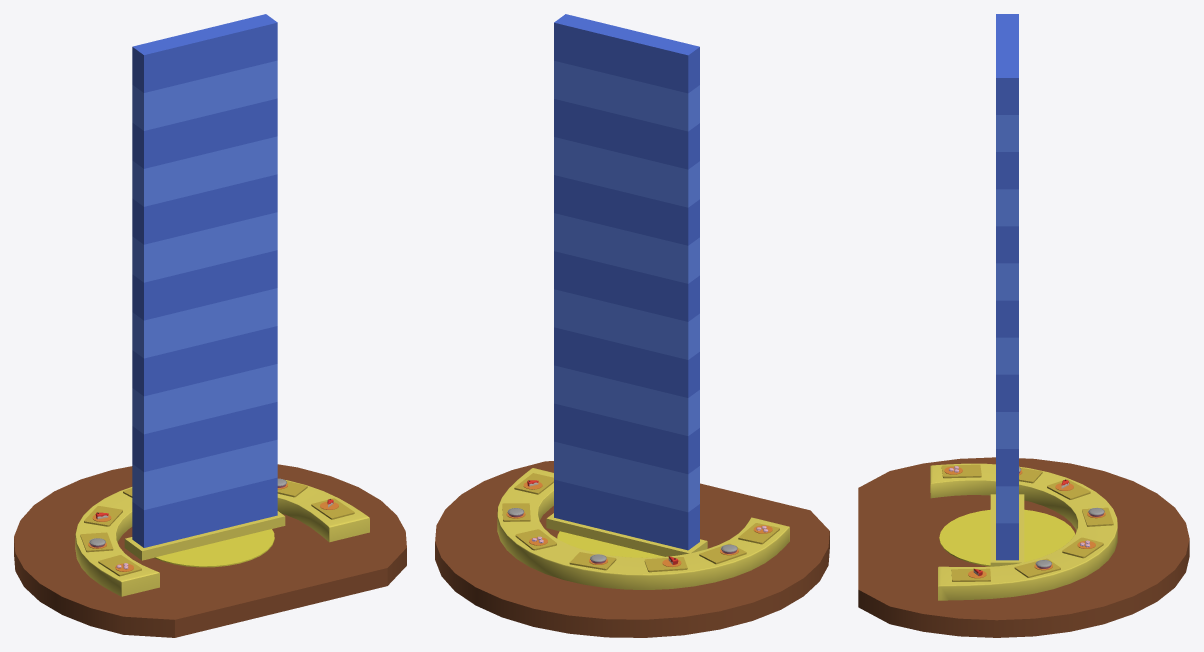
File: Finish.fbx
The picture shows the model from 3 angles, left to right: view 1: azimuth 30°, elevation 25°; view 2: azimuth 150°, elevation 25°; view 3: azimuth 270°, elevation 25°; orthographic projection. The views are drawn at different scales.
Parts seen in each view (by area): view 1: Cube.002; view 2: Cube.002; view 3: Cube.002.
Boxes of the visible parts, left/top/right/bottom form: Cube.002: left=14, top=14, right=406, bottom=637; Cube.002: left=435, top=14, right=829, bottom=637; Cube.002: left=858, top=14, right=1189, bottom=637.
Bounding box in the file's own units: 200 × 292 × 172.
